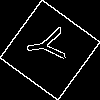Y: (25, 25, 75, 65)
